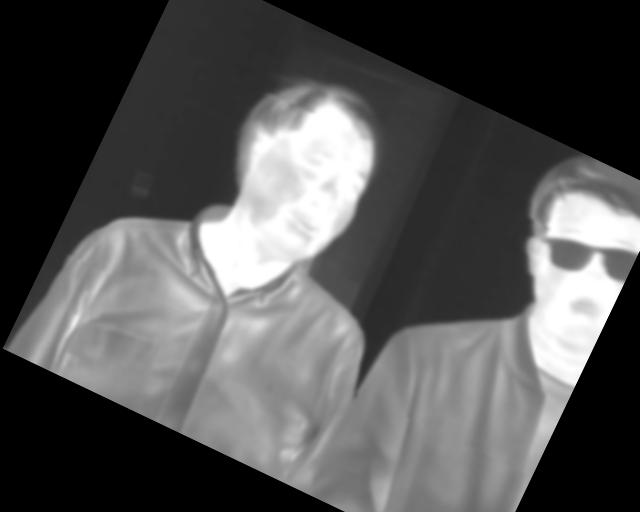face: (200, 52, 404, 276), (480, 142, 640, 359)
